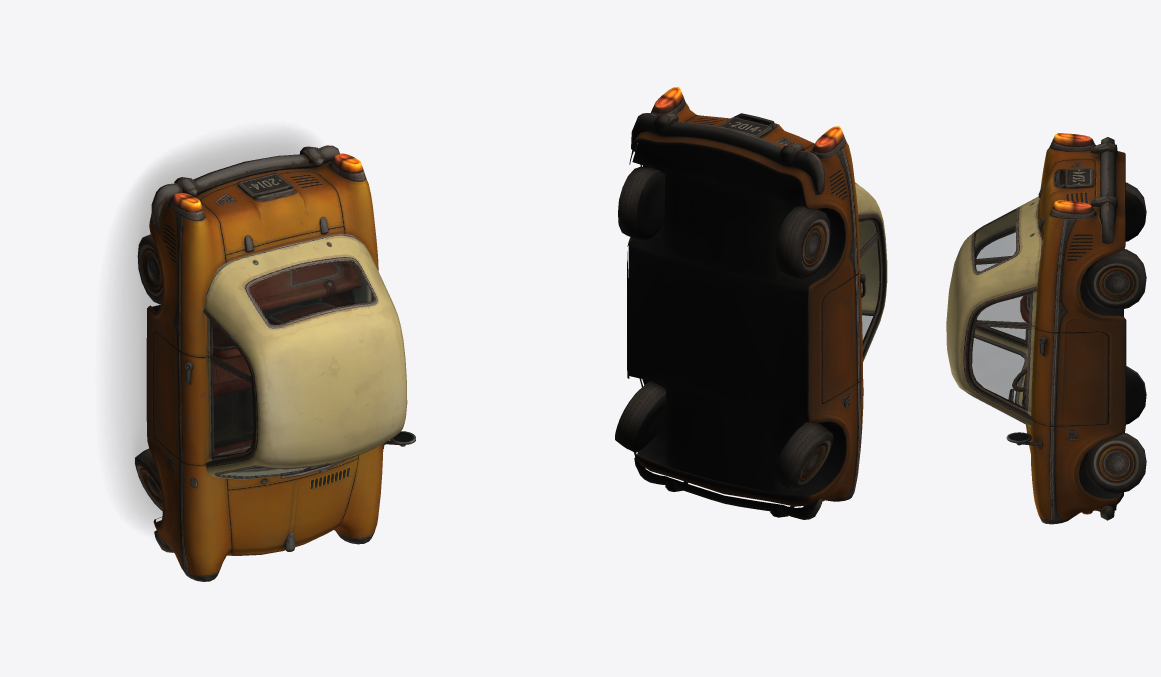
File: src_rotated.glb
3 renders of one model, left to right at view 1: azimuth 30°, elevation 25°; view 2: azimuth 150°, elevation 25°; view 3: azimuth 270°, elevation 25°, orthographic. The views are drawn at different scales.
Size of the model in its own units: 812 by 961 by 375.
4 materials, 4 textured.
